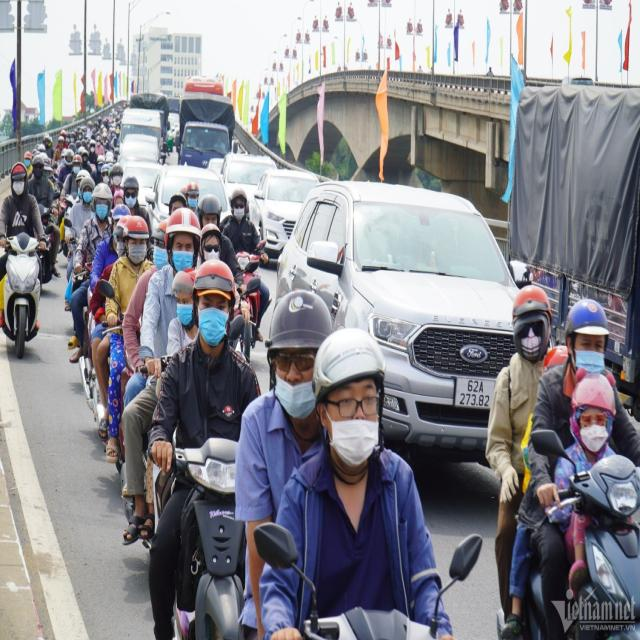helmet: (313, 328, 385, 402), (565, 297, 610, 338), (512, 284, 552, 321)
